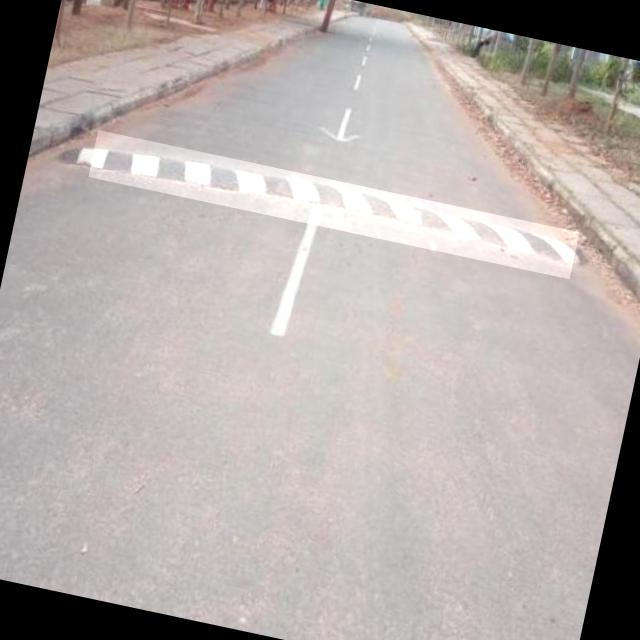bump: (88, 129, 579, 279)
